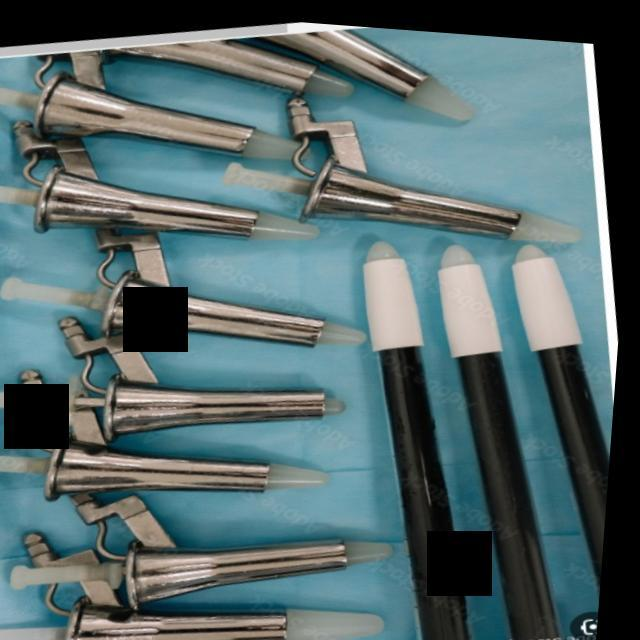Protoscope: (205, 42, 598, 294), (0, 165, 384, 411), (0, 64, 336, 300), (1, 443, 401, 640), (0, 264, 363, 476), (0, 470, 403, 640), (0, 8, 315, 213), (1, 356, 348, 536)
